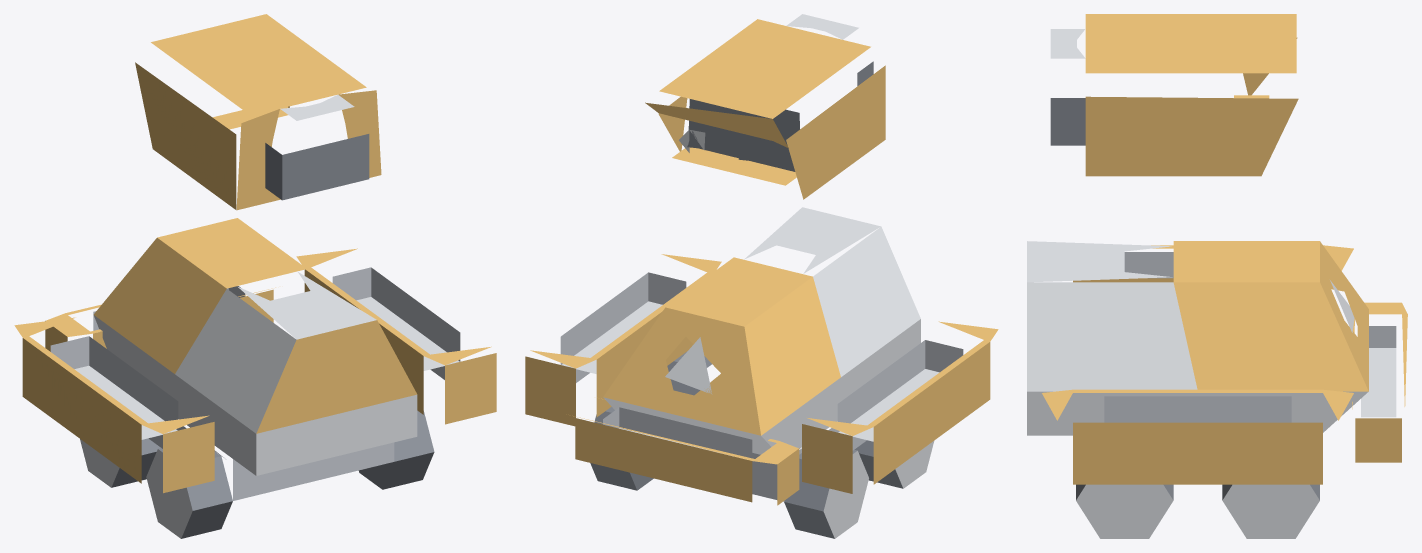
File: rover_combat_lod1.glb
3 views of the same model, side by side, from view 1: azimuth 30°, elevation 25°; view 2: azimuth 150°, elevation 25°; view 3: azimuth 270°, elevation 25° (orthographic). The views are drawn at different scales.
Visible parts, largest first — view 1: rover_combat.001; view 2: rover_combat.001; view 3: rover_combat.001.
Part boxes in pixels (x1,y1,x2,y2): rover_combat.001: (14,14,496,538); rover_combat.001: (525,14,998,538); rover_combat.001: (1027,14,1407,538).
Bounding box in the file's own units: 0.43 × 0.4897 × 0.39.
